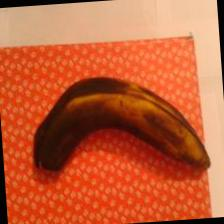Banana Rotten: (25, 62, 203, 215)
